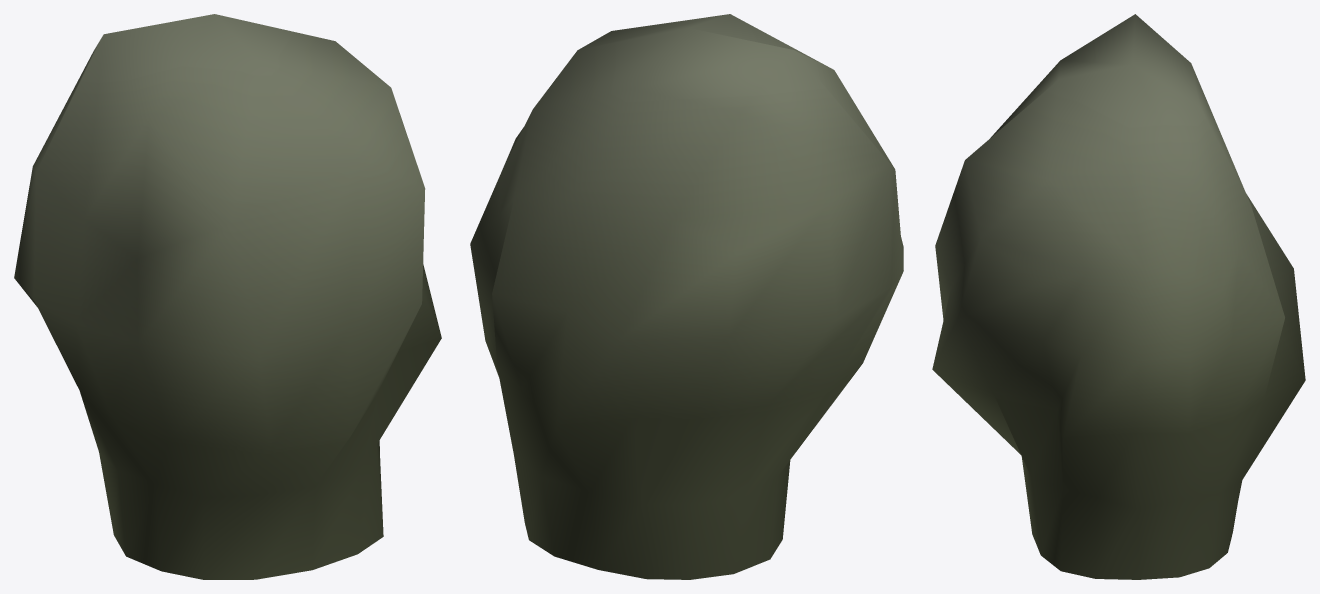
The model's file is WE02_Brush48.fbx.
3 views of the same model, side by side, from view 1: azimuth 30°, elevation 25°; view 2: azimuth 150°, elevation 25°; view 3: azimuth 270°, elevation 25° (orthographic). The views are drawn at different scales.
Visible parts, largest first — view 1: WE02_Brush48; view 2: WE02_Brush48; view 3: WE02_Brush48.
Boxes of the visible parts, x1,y1,x2,y2 form: WE02_Brush48: [14, 14, 441, 579]; WE02_Brush48: [470, 14, 903, 579]; WE02_Brush48: [932, 14, 1305, 579].
Bounding box in the file's own units: 5.53 × 7.11 × 5.26.
